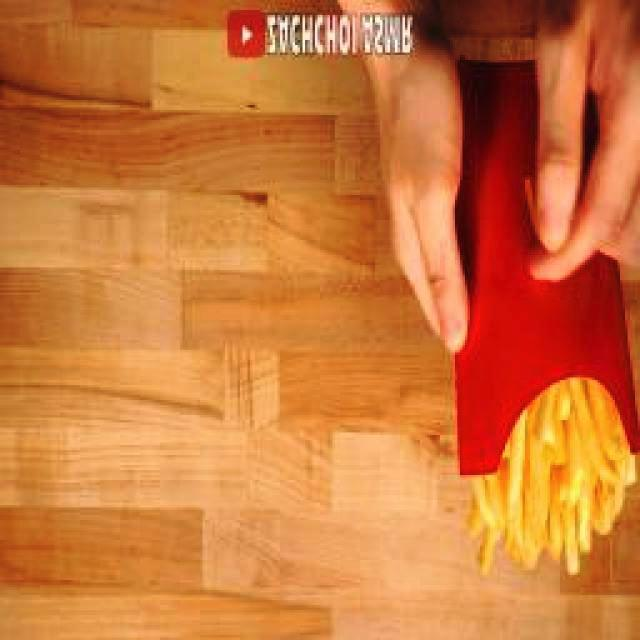french fries: (471, 378, 634, 575)
